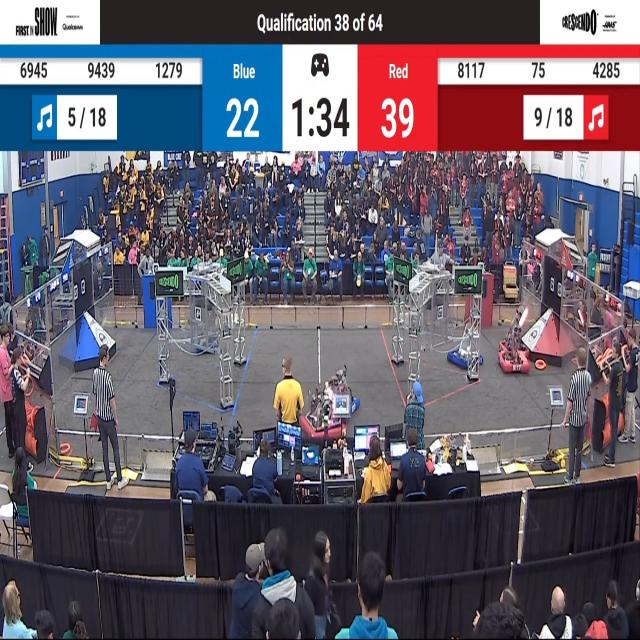Robot: (304, 378, 344, 441), (495, 317, 530, 377), (330, 361, 362, 424), (447, 320, 485, 370), (194, 303, 220, 358), (501, 309, 530, 356)
